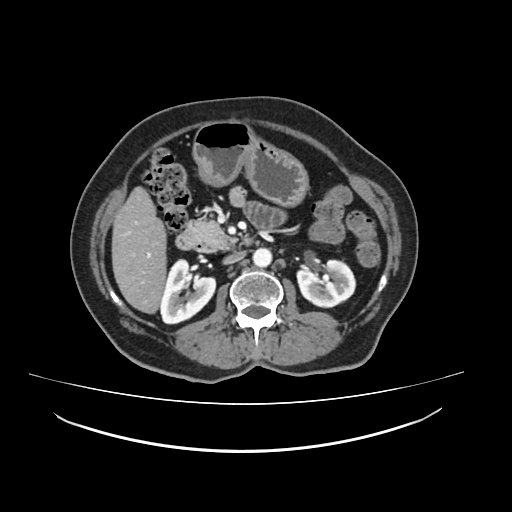aorta: (250, 244, 274, 268)
